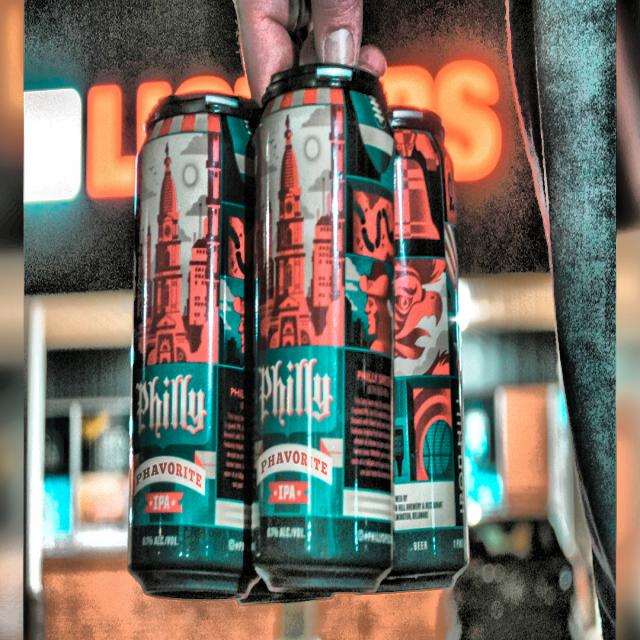can: (256, 58, 396, 601), (124, 85, 264, 603), (384, 99, 472, 602)
